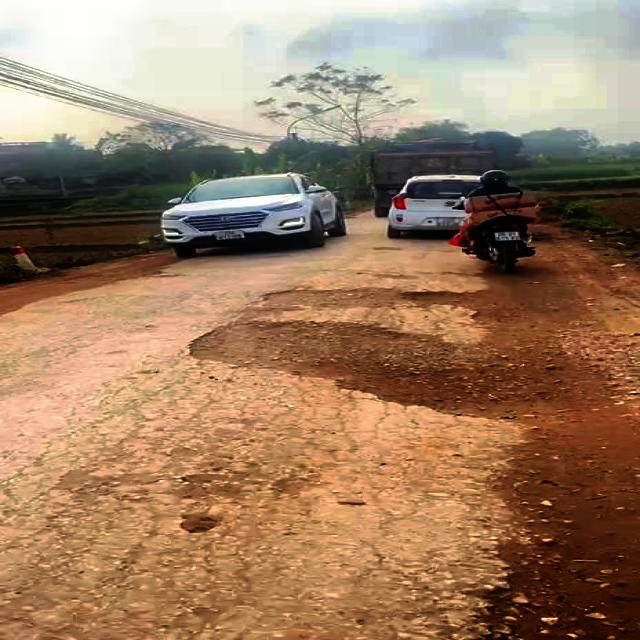pothole: (172, 314, 558, 431), (459, 526, 640, 640), (259, 284, 501, 321)
